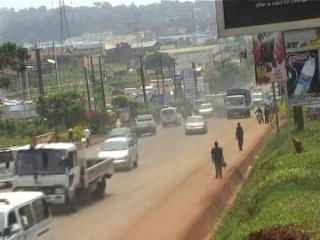Car: (94, 134, 140, 172), (107, 125, 139, 145), (184, 114, 210, 136), (197, 102, 215, 117)
